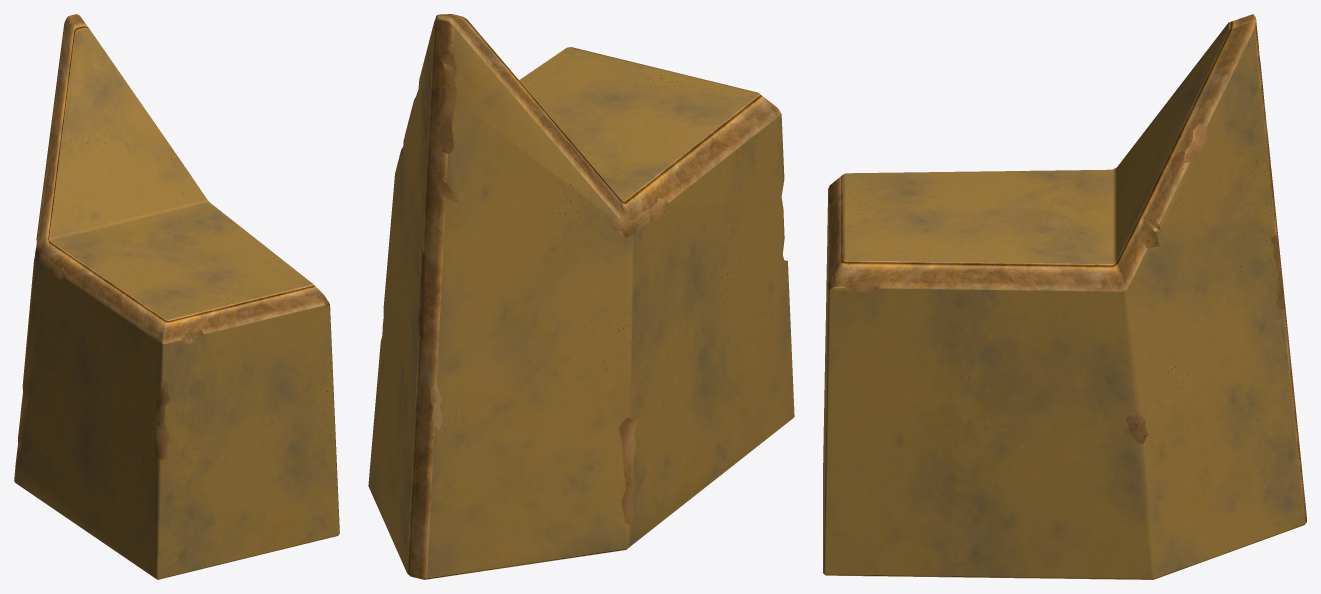
3 views of the same model, side by side, from view 1: azimuth 30°, elevation 25°; view 2: azimuth 150°, elevation 25°; view 3: azimuth 270°, elevation 25° (orthographic). The views are drawn at different scales.
Visible parts, largest first — view 1: SM_Dragons_Bridge_Pillar_Bottom_01_LOD0; view 2: SM_Dragons_Bridge_Pillar_Bottom_01_LOD0; view 3: SM_Dragons_Bridge_Pillar_Bottom_01_LOD0.
Boxes of the visible parts, x1=… form: SM_Dragons_Bridge_Pillar_Bottom_01_LOD0: x1=14, y1=14, x2=339, y2=579; SM_Dragons_Bridge_Pillar_Bottom_01_LOD0: x1=368, y1=14, x2=794, y2=579; SM_Dragons_Bridge_Pillar_Bottom_01_LOD0: x1=823, y1=14, x2=1306, y2=579.
Size of the model in its own units: 3.17 by 6.33 by 5.49.
Materials: 2 (2 with a texture image).
